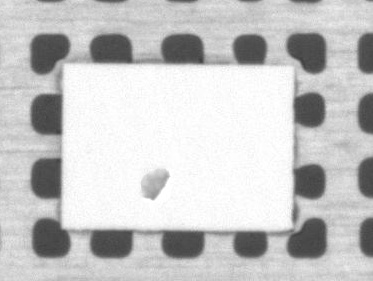DIE_INK: (179, 122, 232, 155)
